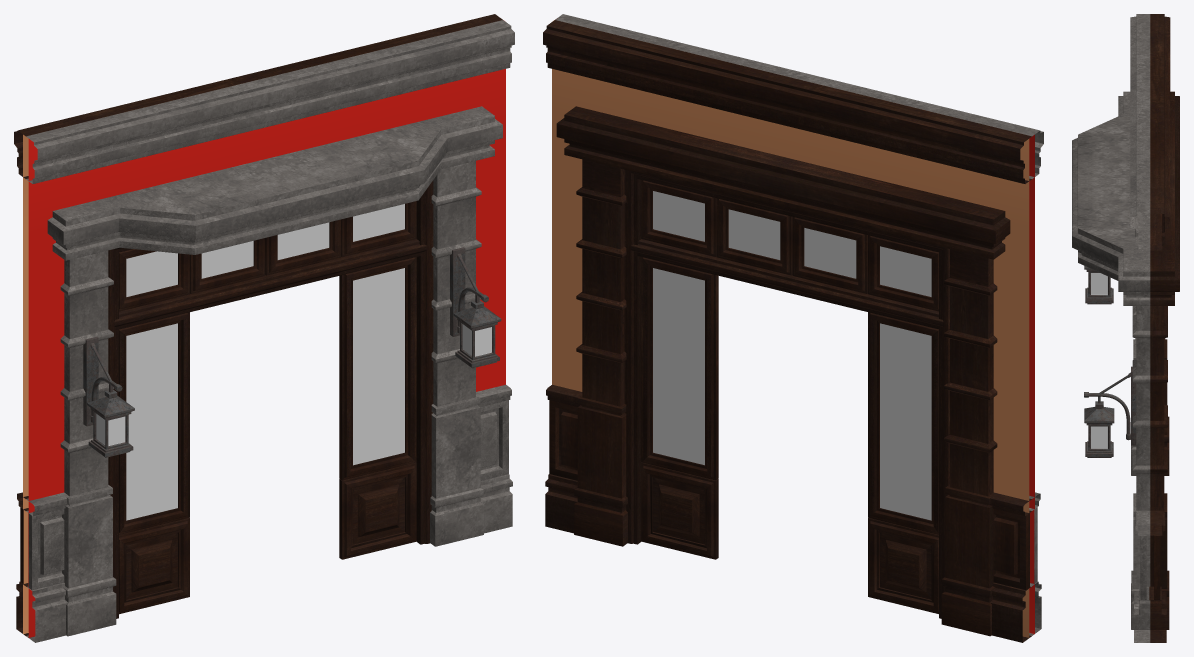
File: SK7 DOOR 2.fbx
3 renders of one model, left to right at view 1: azimuth 30°, elevation 25°; view 2: azimuth 150°, elevation 25°; view 3: azimuth 270°, elevation 25°, orthographic. The views are drawn at different scales.
Parts seen in each view (by area): view 1: SK7 DOOR 2; view 2: SK7 DOOR 2; view 3: SK7 DOOR 2.
Part boxes in pixels (bbox=[...]): SK7 DOOR 2: bbox=[14, 14, 514, 642]; SK7 DOOR 2: bbox=[543, 14, 1043, 642]; SK7 DOOR 2: bbox=[1072, 14, 1179, 642].
Bounding box in the file's own units: 400 × 400 × 91.1.
